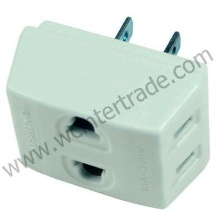three_eye_plug: (2, 13, 212, 213)
